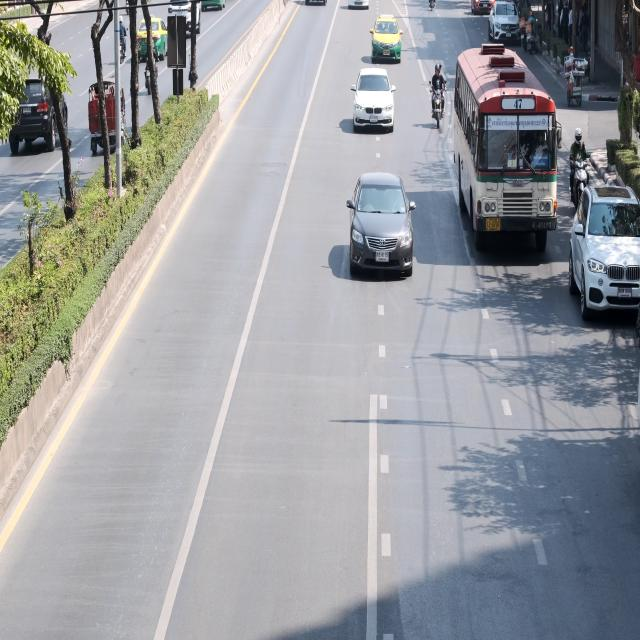cars: (567, 180, 640, 358), (340, 161, 425, 298), (0, 49, 76, 165), (339, 62, 405, 149), (127, 8, 181, 70), (368, 8, 407, 72), (488, 1, 523, 60), (163, 0, 215, 36)
motorcycle: (568, 122, 595, 215), (425, 52, 452, 140), (115, 10, 133, 63), (142, 50, 160, 95), (526, 14, 542, 62), (518, 13, 531, 52)
tricycle: (451, 44, 561, 272), (81, 67, 136, 171)
